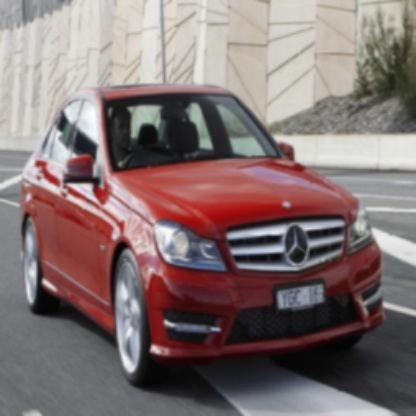Vehicle: (20, 84, 386, 390)
